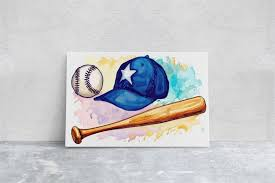baseball bat: (71, 94, 207, 144)
